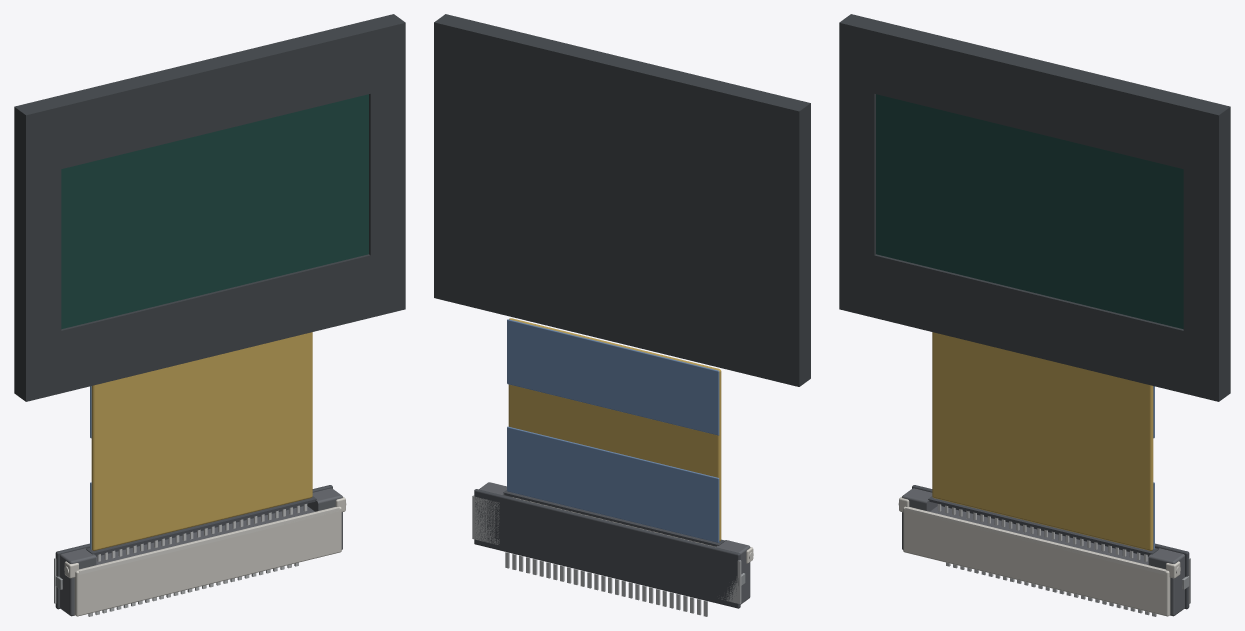
Rendered from er-oled096-1-3w.glb.
3 views of the same model, side by side, from view 1: azimuth 30°, elevation 25°; view 2: azimuth 150°, elevation 25°; view 3: azimuth 330°, elevation 25° (orthographic). The views are drawn at different scales.
Parts seen in each view (by area): view 1: er-oled096-1-3w_111, er-oled096-1-3w_112, er-oled096-1-3w_107, er-oled096-1-3w_95, er-oled096-1-3w_110, er-oled096-1-3w_33, er-oled096-1-3w_96, er-oled096-1-3w_94, er-oled096-1-3w_32; view 2: er-oled096-1-3w_110, er-oled096-1-3w_108, er-oled096-1-3w_109, er-oled096-1-3w_32, er-oled096-1-3w_107, er-oled096-1-3w_105, er-oled096-1-3w_111, er-oled096-1-3w_1, er-oled096-1-3w_94, er-oled096-1-3w_33; view 3: er-oled096-1-3w_111, er-oled096-1-3w_112, er-oled096-1-3w_107, er-oled096-1-3w_95, er-oled096-1-3w_110, er-oled096-1-3w_33, er-oled096-1-3w_94, er-oled096-1-3w_96, er-oled096-1-3w_32.
Boxes of the visible parts, x1=… form: er-oled096-1-3w_111: x1=22, y1=19, x2=405, y2=401; er-oled096-1-3w_112: x1=61, y1=94, x2=368, y2=329; er-oled096-1-3w_107: x1=91, y1=332, x2=312, y2=550; er-oled096-1-3w_95: x1=74, y1=506, x2=341, y2=616; er-oled096-1-3w_110: x1=14, y1=14, x2=401, y2=398; er-oled096-1-3w_33: x1=60, y1=488, x2=342, y2=616; er-oled096-1-3w_96: x1=79, y1=507, x2=339, y2=574; er-oled096-1-3w_94: x1=86, y1=496, x2=316, y2=555; er-oled096-1-3w_32: x1=55, y1=485, x2=332, y2=609; er-oled096-1-3w_110: x1=434, y1=17, x2=806, y2=386; er-oled096-1-3w_108: x1=507, y1=426, x2=719, y2=542; er-oled096-1-3w_109: x1=507, y1=319, x2=719, y2=435; er-oled096-1-3w_32: x1=474, y1=489, x2=740, y2=608; er-oled096-1-3w_107: x1=508, y1=318, x2=721, y2=541; er-oled096-1-3w_105: x1=494, y1=506, x2=717, y2=592; er-oled096-1-3w_111: x1=442, y1=14, x2=810, y2=381; er-oled096-1-3w_1: x1=472, y1=495, x2=499, y2=544; er-oled096-1-3w_94: x1=503, y1=490, x2=724, y2=546; er-oled096-1-3w_33: x1=479, y1=482, x2=750, y2=604; er-oled096-1-3w_111: x1=839, y1=19, x2=1222, y2=401; er-oled096-1-3w_112: x1=876, y1=94, x2=1183, y2=329; er-oled096-1-3w_107: x1=932, y1=332, x2=1153, y2=550; er-oled096-1-3w_95: x1=903, y1=506, x2=1170, y2=616; er-oled096-1-3w_110: x1=843, y1=14, x2=1230, y2=398; er-oled096-1-3w_33: x1=902, y1=488, x2=1184, y2=616; er-oled096-1-3w_94: x1=928, y1=496, x2=1158, y2=555; er-oled096-1-3w_96: x1=905, y1=507, x2=1165, y2=574; er-oled096-1-3w_32: x1=912, y1=485, x2=1189, y2=609.
Bounding box in the file's own units: 26.7 × 36.17 × 2.78.
